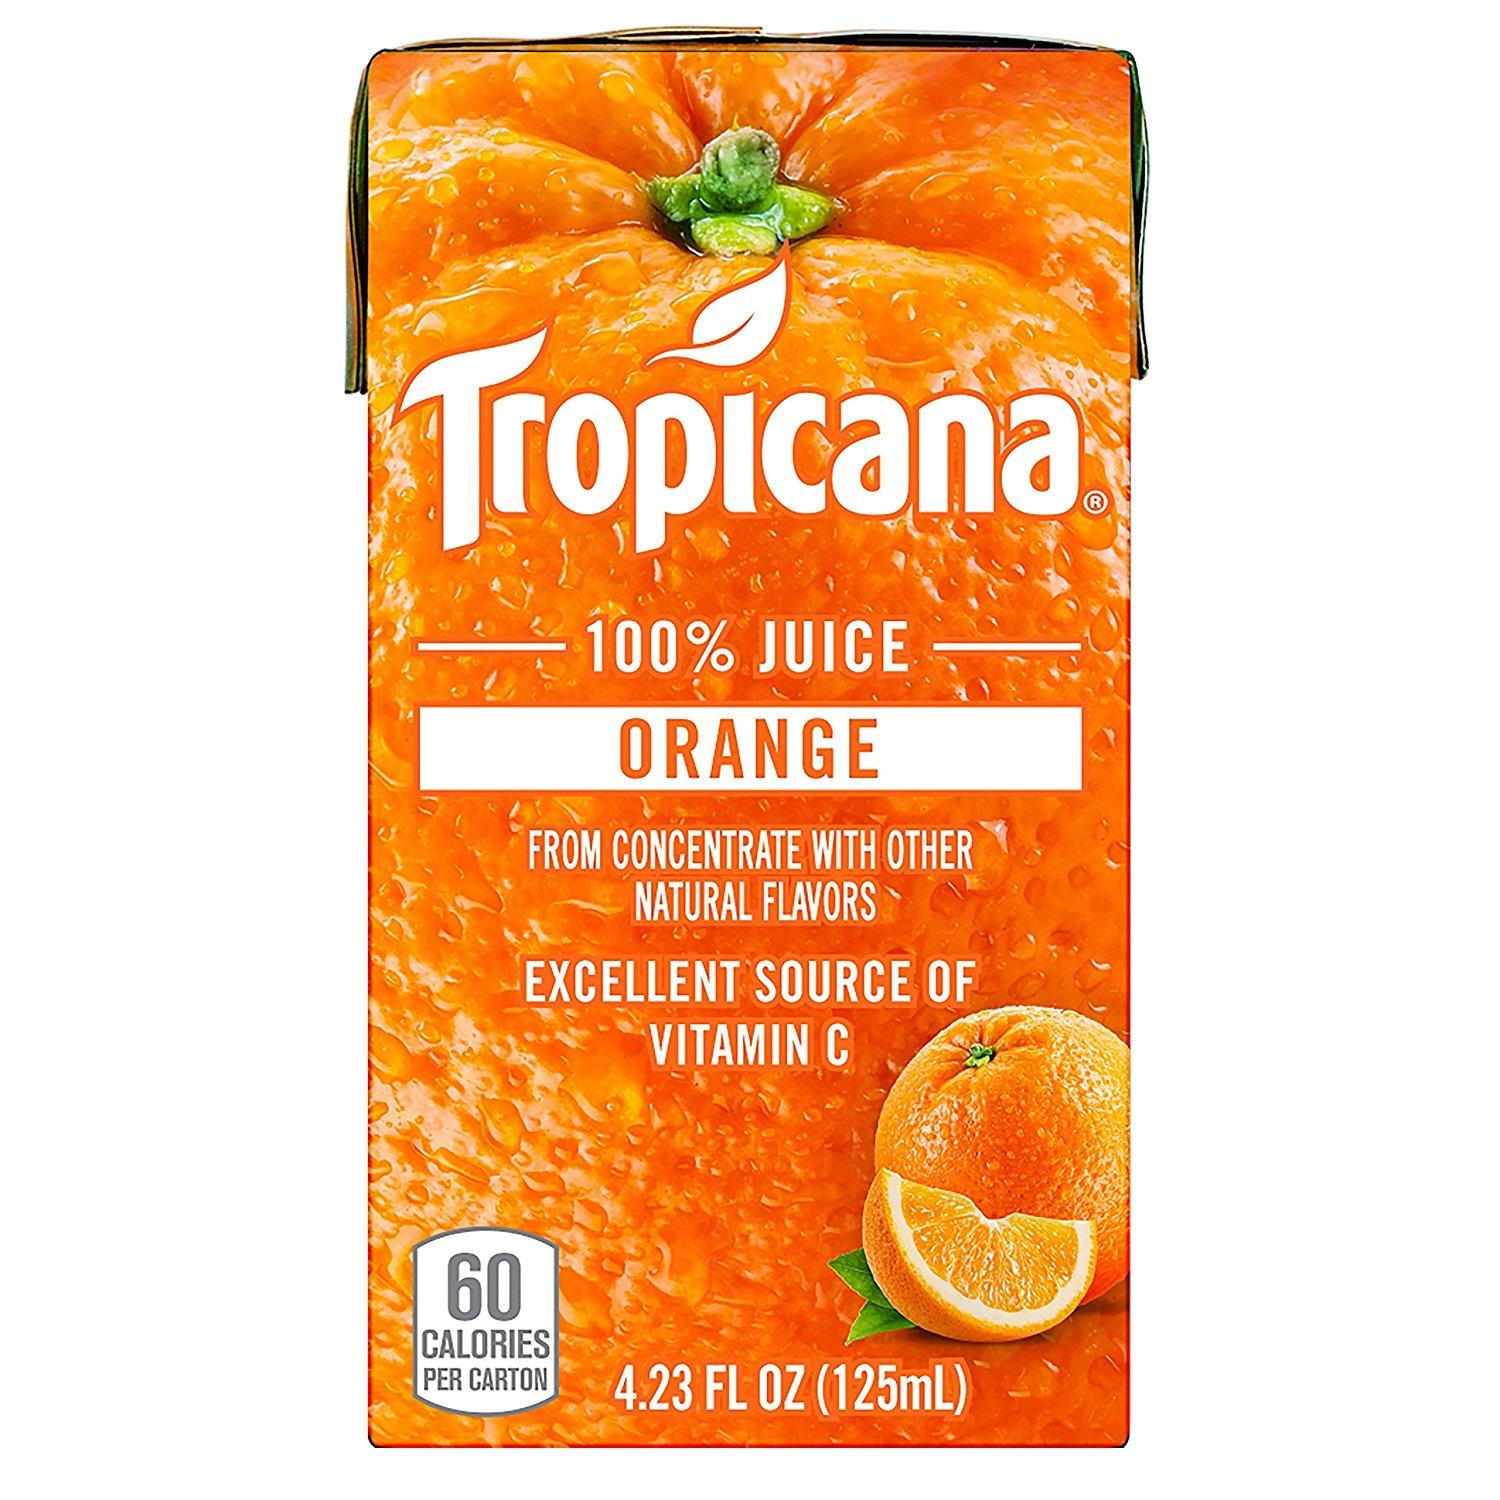Juice_Box: (348, 47, 1139, 1457)
